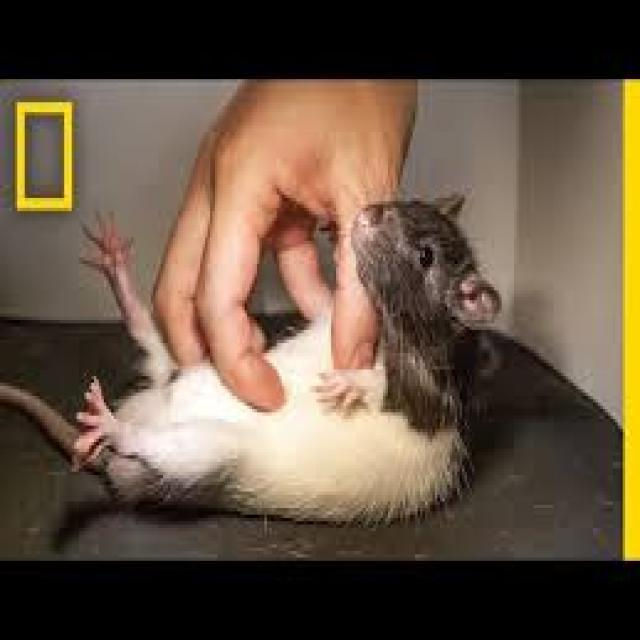Rat: (89, 191, 546, 601)
